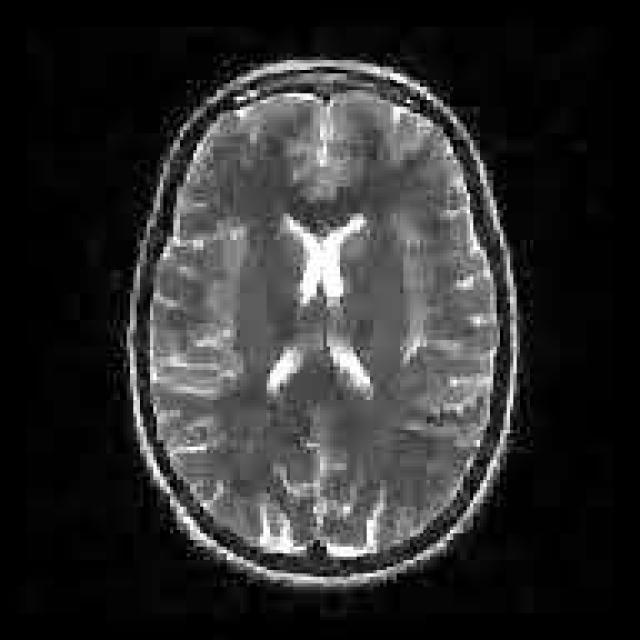notumor: (123, 60, 527, 587)
